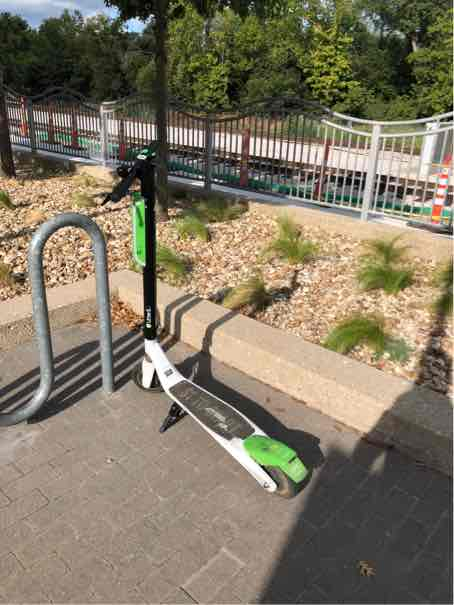scooter: (84, 141, 322, 499)
